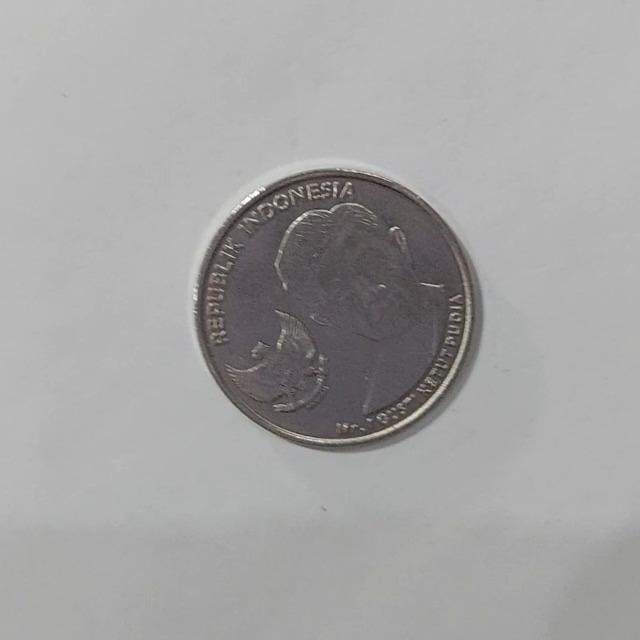Rp100: (191, 158, 480, 450)
